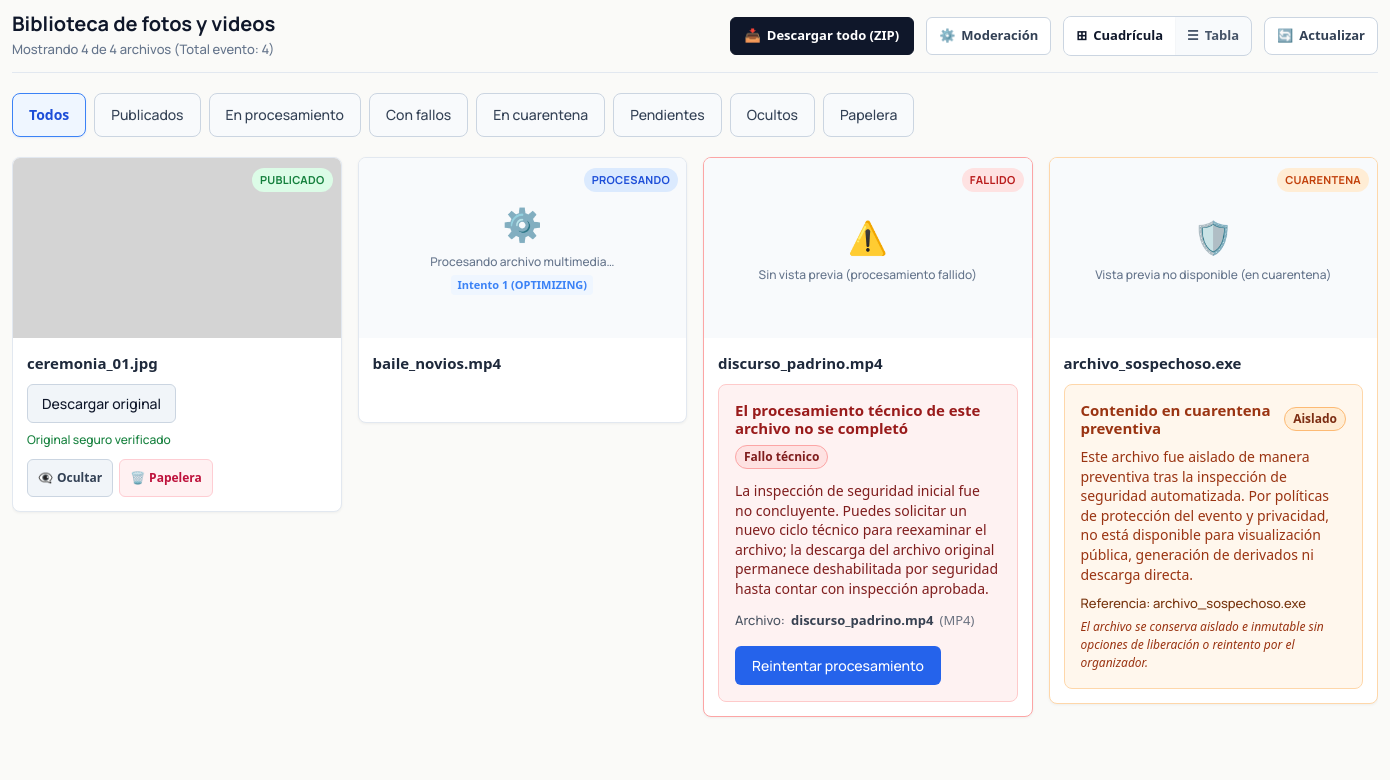
Test: OrganizerMediaLibraryComponent & Media Integration (EL-TK-100) › Recuperación individual y exportación (EL-TK-132) › bloquea la descarga individual y alerta al usuario si el archivo no está autorizado por seguridad
Click the button with class "btn-download-original". click: [102, 404]
box: [27,384,176,423]
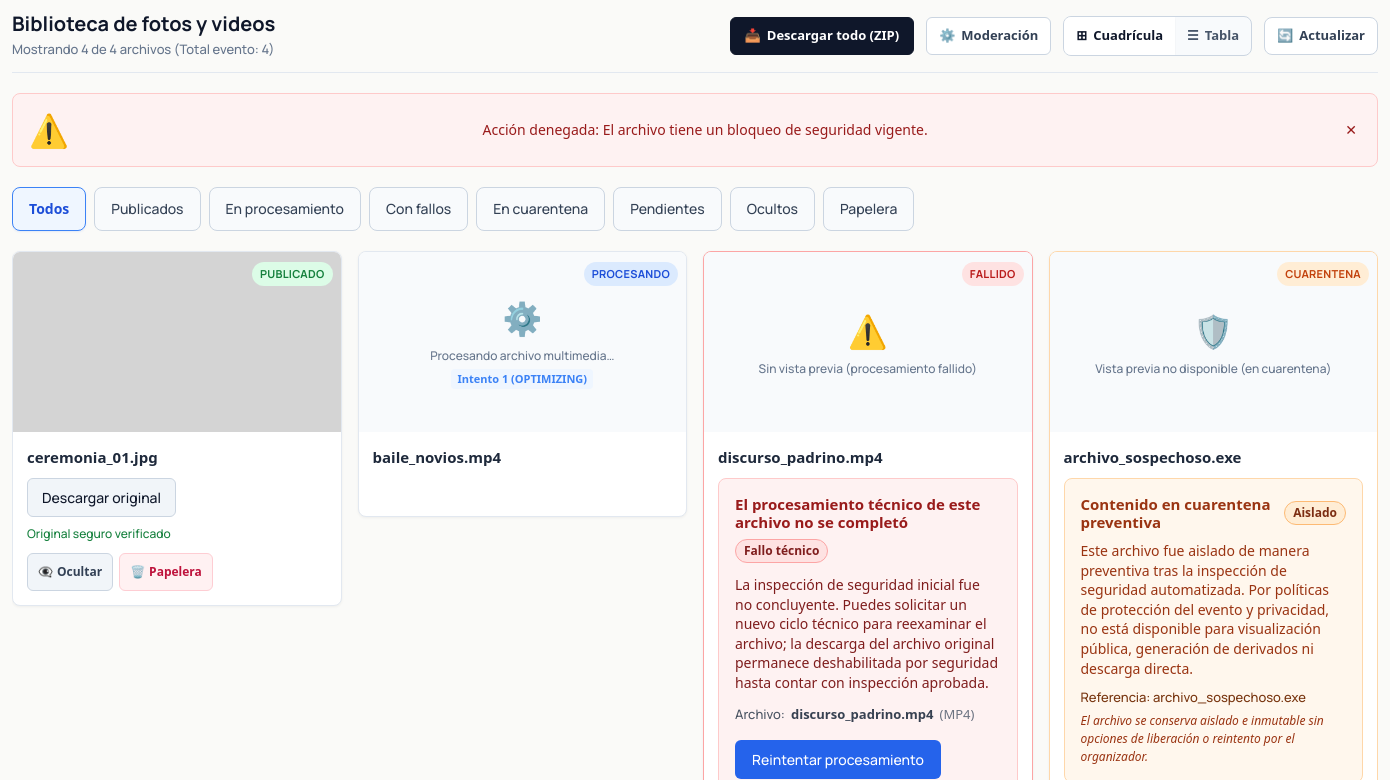
Expected: the message "⚠️ Acción denegada: El archivo tiene un bloqueo de seguridad vigente. ✕" is shown, [12,92,1378,166]
Expected: the message with class "alert-danger" shows "El archivo tiene un bloqueo de seguridad vigente", [482,120,928,139]
